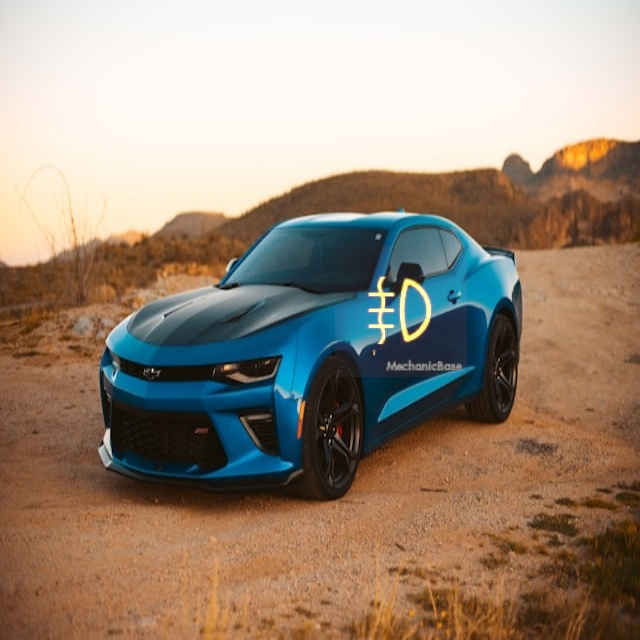symbol: (335, 245, 467, 377)
